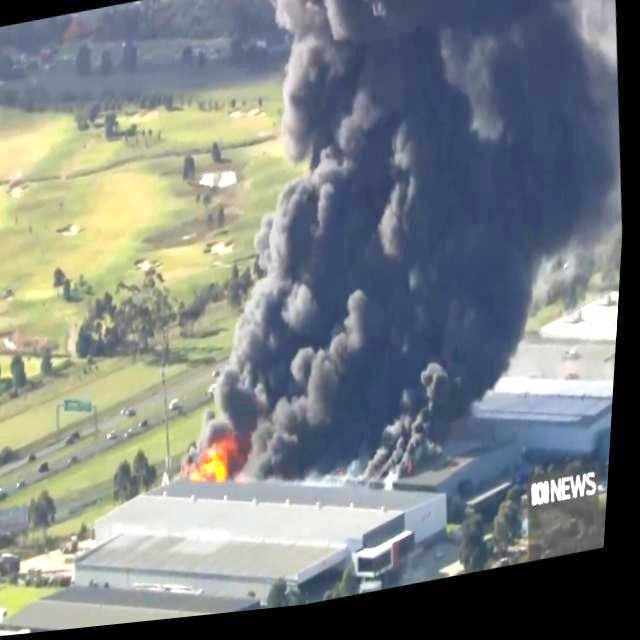fire: (194, 448, 242, 492)
